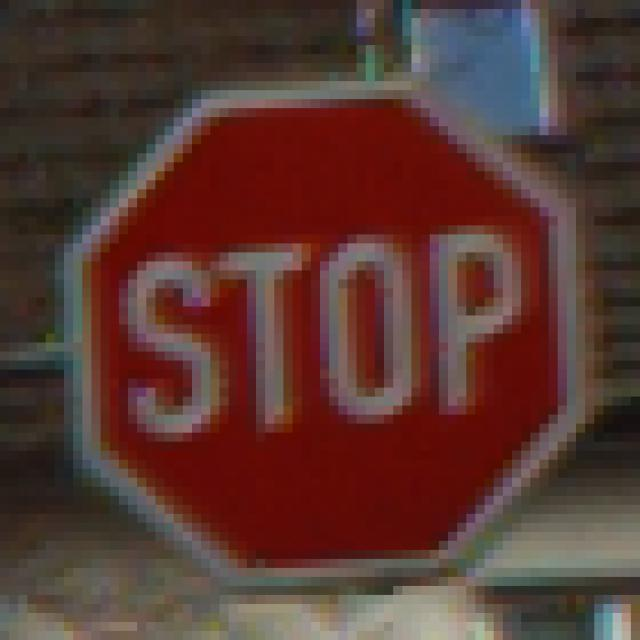STOP: (56, 64, 586, 578)
